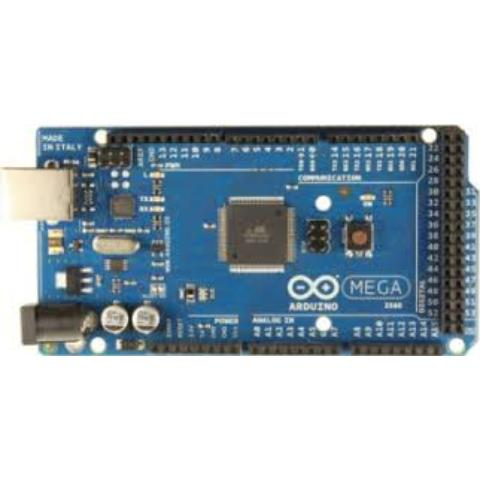Arduino-Mega: (0, 124, 480, 356)
